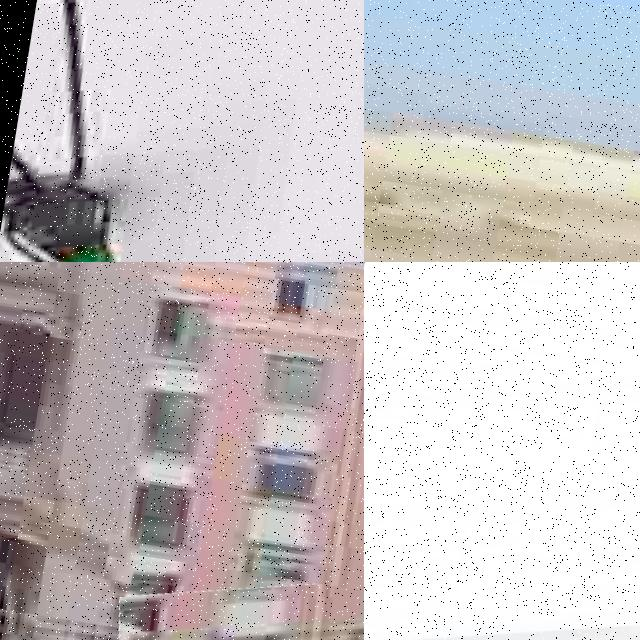drone: (0, 0, 364, 262), (364, 326, 640, 640), (98, 554, 364, 640)
